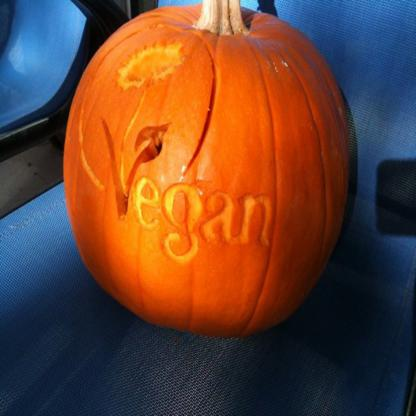Pumpkin: (61, 0, 350, 338)
